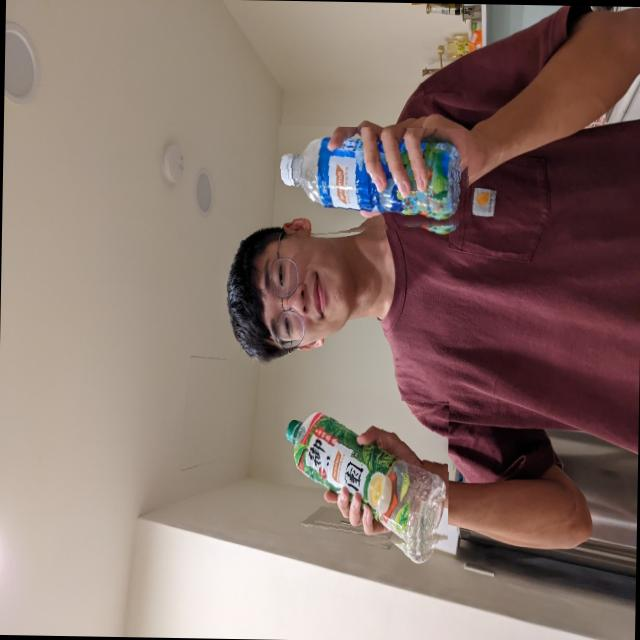plastic bottle: (281, 398, 450, 554), (276, 124, 474, 240)
